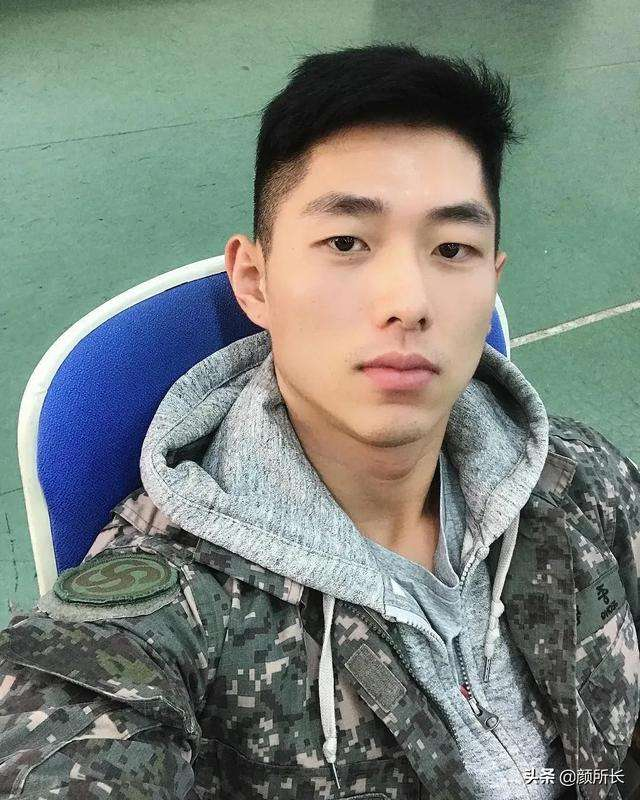person: (141, 16, 579, 800)
